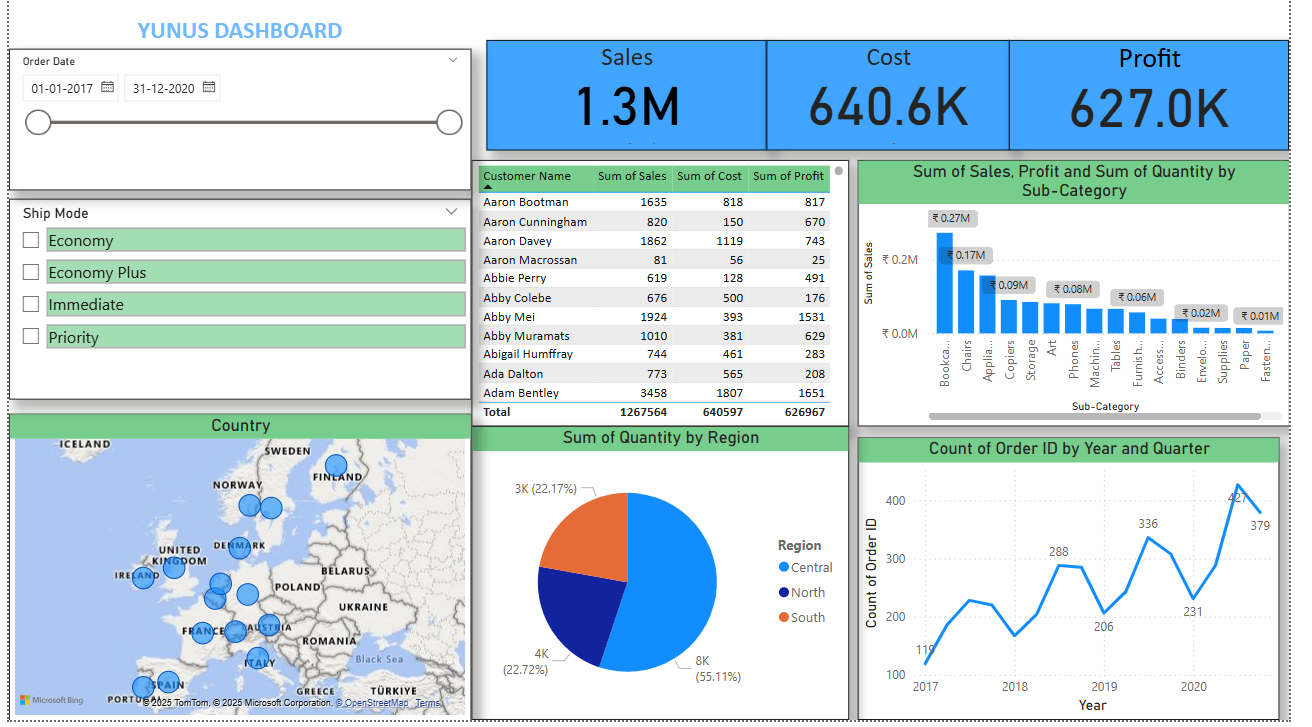

The page's visual inventory and layout, read from the dashboard file:
{"tool":"powerbi","page":{"name":"Page 1","canvas":[1280,720],"ordinal":0},"visuals":[{"type":"card","title":"Sales","fields":{"Values":["List of Orders.Sales"]},"box":[476.9,40.4,280,110.1],"z":0},{"type":"card","title":"Cost","fields":{"Values":["List of Orders.Cost"]},"box":[756.9,40.4,243.3,110.1],"z":1000},{"type":"card","title":"Profit","fields":{"Values":["List of Orders.Profit"]},"box":[1000.3,40.4,280,110.1],"z":2000},{"type":"tableEx","fields":{"Values":["List of Orders.Customer Name","List of Orders.Sales","List of Orders.Cost","List of Orders.Profit"]},"box":[462.2,160.2,377.9,266.6],"z":3000},{"type":"clusteredColumnChart","title":"Sum of Sales, Profit and Sum of Quantity by Sub-Category","fields":{"Y":["List of Orders.Sales"],"Category":["List of Orders.Sub-Category"]},"box":[848.6,160.2,431.7,266.6],"z":4000},{"type":"lineChart","fields":{"Y":["List of Orders.Order ID"],"Category":["List of Orders.Order Date.Variation.Date Hierarchy.Year","List of Orders.Order Date.Variation.Date Hierarchy.Quarter"]},"box":[848.6,437.8,421.9,282.5],"z":5000},{"type":"pieChart","fields":{"Y":["List of Orders.Quantity"],"Category":["List of Orders.Region"]},"box":[462.5,426.2,377.5,293.8],"z":6000},{"type":"map","fields":{"Category":["List of Orders.Country"]},"box":[0,413.3,462.2,306.9],"z":7000},{"type":"textbox","box":[0,10.1,461.7,77.9],"z":8000},{"type":"slicer","fields":{"Values":["List of Orders.Ship Mode"]},"box":[0,199.3,462.2,200.5],"z":9000},{"type":"slicer","fields":{"Values":["List of Orders.Order Date"]},"box":[0,48.9,462.2,141.8],"z":10000}]}

Visuals, with their boxes in screenshot pixels (x1, y1, x2, y2), scaled from the page's 1280x720 canvas onto the 1312x727 screenshot:
"Sales" card: [489,41,776,152]
"Cost" card: [776,41,1025,152]
"Profit" card: [1025,41,1311,152]
tableEx - List of Orders.Customer Name x List of Orders.Sales: [474,162,861,431]
"Sum of Sales, Profit and Sum of Quantity by Sub-Category" clusteredColumnChart: [870,162,1311,431]
lineChart - List of Orders.Order ID x List of Orders.Order Date.Variation.Date Hierarchy.Year: [870,442,1302,726]
pieChart - List of Orders.Quantity x List of Orders.Region: [474,430,861,726]
map - List of Orders.Country: [0,417,474,726]
textbox: [0,10,473,89]
slicer - List of Orders.Ship Mode: [0,201,474,404]
slicer - List of Orders.Order Date: [0,49,474,193]
